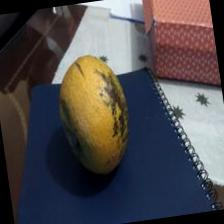Orange Rotten: (45, 44, 147, 186)
